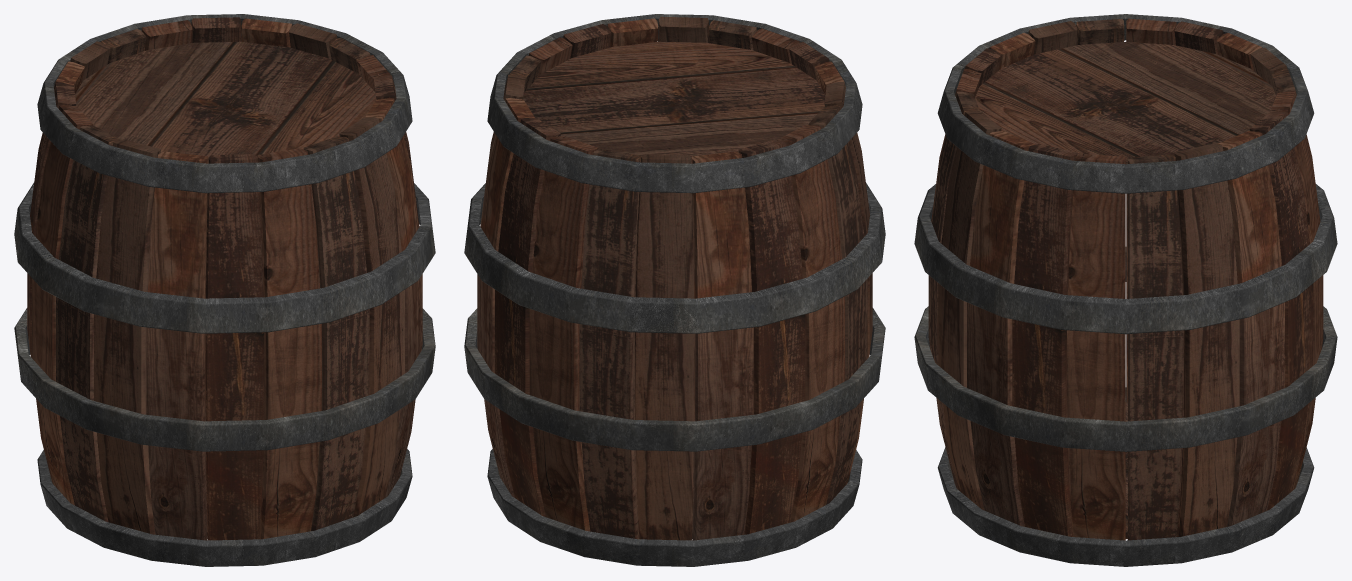
The model's file is Barrel_parts.fbx.
3 views of the same model, side by side, from view 1: azimuth 30°, elevation 25°; view 2: azimuth 150°, elevation 25°; view 3: azimuth 270°, elevation 25° (orthographic).
Parts seen in each view (by area): view 1: Cover_01, Metal_part_3, Plank_37, Plank_38, Plank_39, Metal_part_4, Plank_36, Metal_part_5, Plank_45, Plank_40, Metal_part_6, Plank_41 (+13 smaller); view 2: Cover_01, Metal_part_3, Plank_31, Plank_32, Plank_35, Metal_part_4, Plank_33, Metal_part_5, Plank_49, Plank_34, Metal_part_6, Plank_48 (+13 smaller); view 3: Cover_01, Metal_part_3, Plank_44, Plank_46, Plank_50, Plank_43, Metal_part_4, Metal_part_5, Plank_42, Plank_47, Metal_part_6, Plank_41 (+12 smaller).
Boxes of the visible parts, left/top/right/bottom form: Cover_01: left=75, top=41, right=376, bottom=163; Metal_part_3: left=14, top=182, right=435, bottom=333; Plank_37: left=146, top=151, right=208, bottom=540; Plank_38: left=205, top=154, right=264, bottom=540; Plank_39: left=257, top=148, right=321, bottom=539; Metal_part_4: left=37, top=14, right=412, bottom=193; Plank_36: left=94, top=139, right=160, bottom=534; Metal_part_5: left=14, top=308, right=435, bottom=451; Plank_45: left=303, top=136, right=369, bottom=531; Plank_40: left=56, top=125, right=120, bottom=521; Metal_part_6: left=37, top=449, right=412, bottom=566; Plank_41: left=339, top=117, right=404, bottom=517; Cover_01: left=523, top=41, right=825, bottom=163; Metal_part_3: left=464, top=183, right=885, bottom=333; Plank_31: left=635, top=154, right=694, bottom=540; Plank_32: left=691, top=151, right=753, bottom=540; Plank_35: left=579, top=149, right=640, bottom=539; Metal_part_4: left=487, top=14, right=862, bottom=193; Plank_33: left=738, top=139, right=805, bottom=534; Metal_part_5: left=464, top=308, right=885, bottom=451; Plank_49: left=529, top=135, right=598, bottom=531; Plank_34: left=777, top=125, right=844, bottom=522; Metal_part_6: left=487, top=449, right=862, bottom=566; Plank_48: left=495, top=118, right=560, bottom=516; Cover_01: left=975, top=42, right=1275, bottom=164; Metal_part_3: left=914, top=184, right=1337, bottom=334; Plank_44: left=1066, top=153, right=1125, bottom=540; Plank_46: left=1174, top=143, right=1239, bottom=536; Plank_50: left=1127, top=154, right=1183, bottom=540; Plank_43: left=1012, top=144, right=1077, bottom=536; Metal_part_4: left=937, top=14, right=1314, bottom=193; Metal_part_5: left=914, top=247, right=1337, bottom=451; Plank_42: left=967, top=131, right=1035, bottom=526; Plank_47: left=1217, top=131, right=1284, bottom=526; Metal_part_6: left=937, top=387, right=1314, bottom=566; Plank_41: left=938, top=111, right=1001, bottom=510.
Size of the model in its own units: 117 by 123 by 117.
